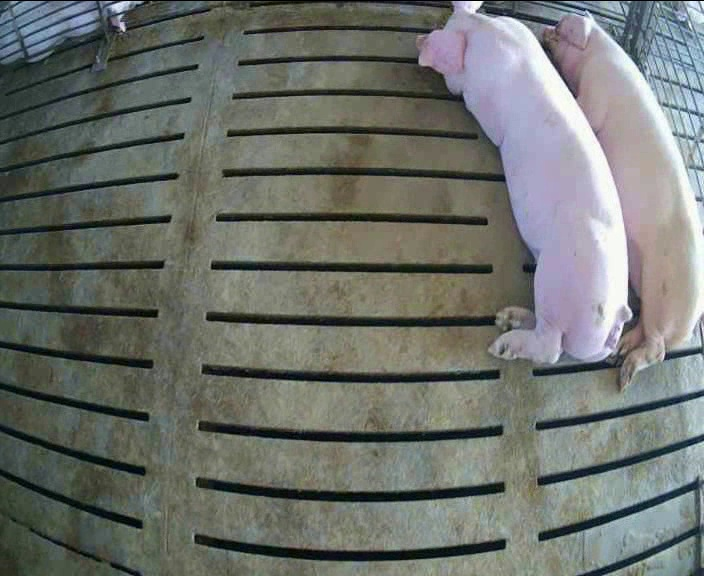pig: (417, 1, 630, 363), (543, 10, 703, 388)
